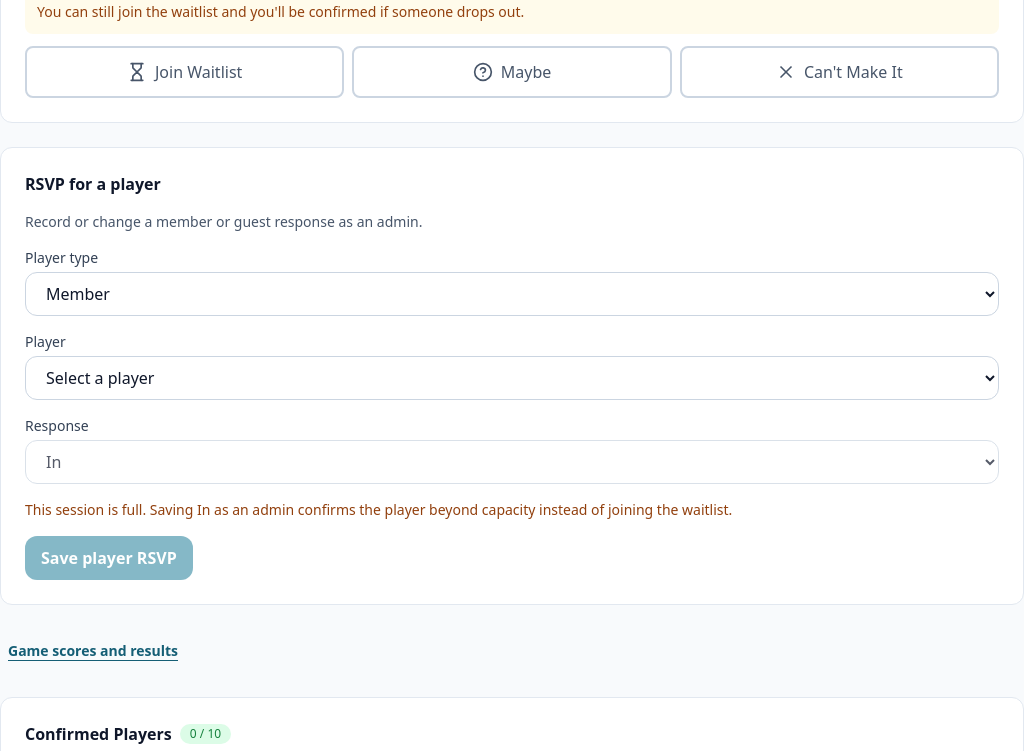
Test: admin player RSVPs › changes an existing response and explains the capacity override
(page scrolled)
Select "Ace" in the dropdown labelled "Player" at (512, 378), box [25,356,999,400]
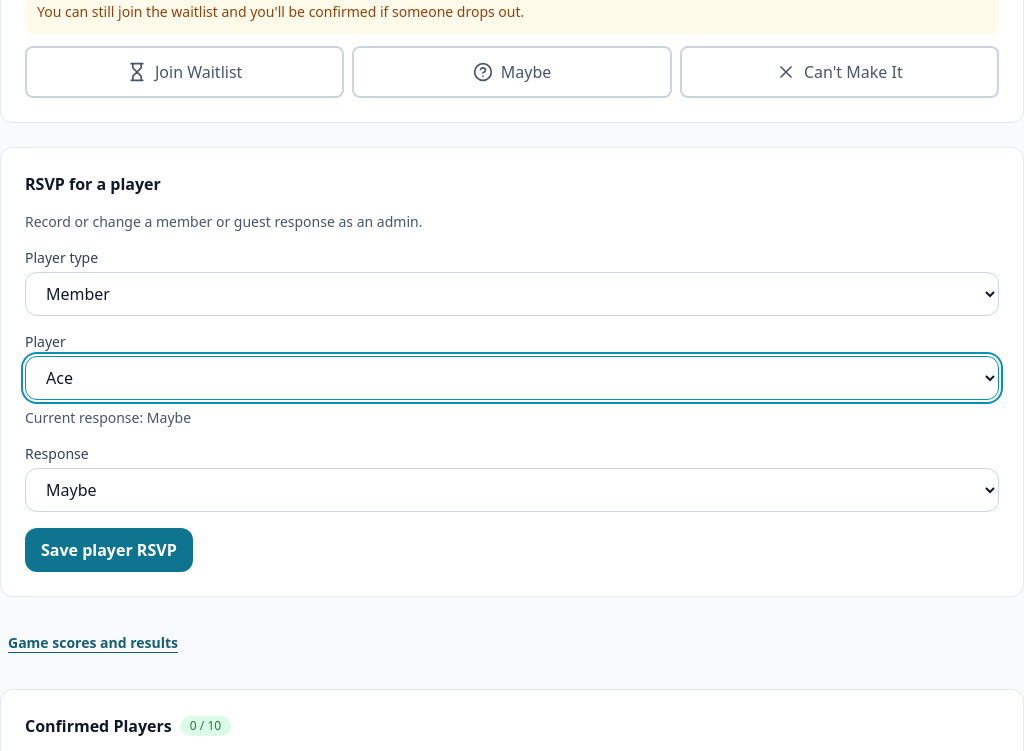
Result: the dropdown labelled "Response" shows "Maybe"
Select "In" in the dropdown labelled "Response" at (512, 490), box [25,468,999,512]
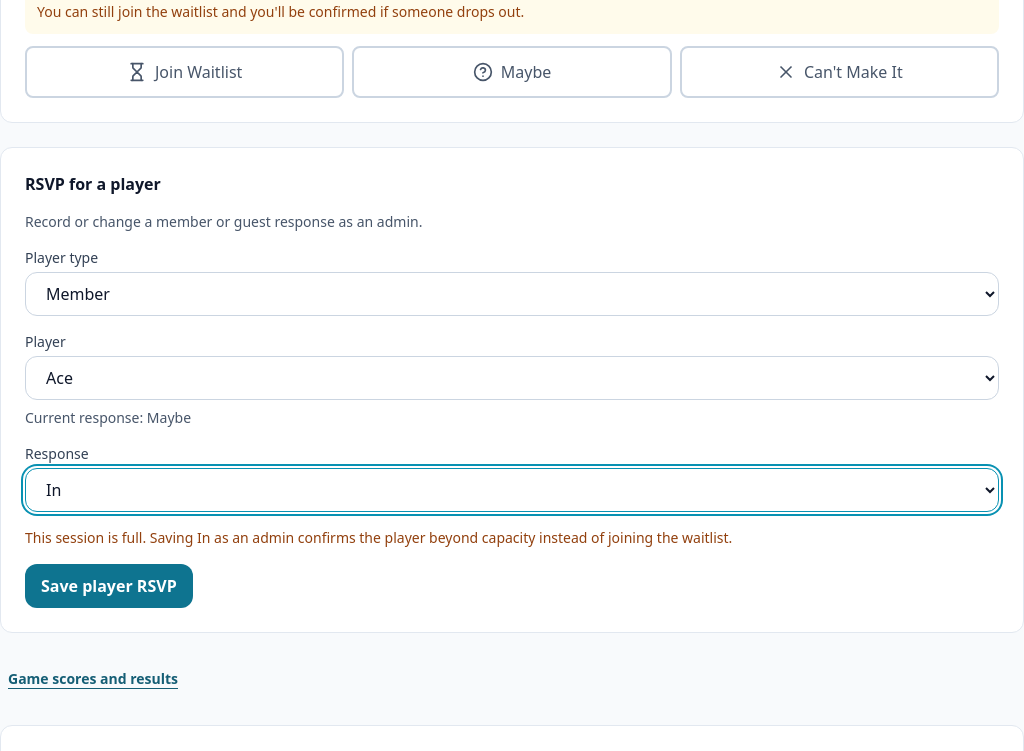
Result: the text "confirms the player beyond capacity" is shown at [25,528,732,547]
Select "Out" in the dropdown labelled "Response" at (512, 490), box [25,468,999,512]
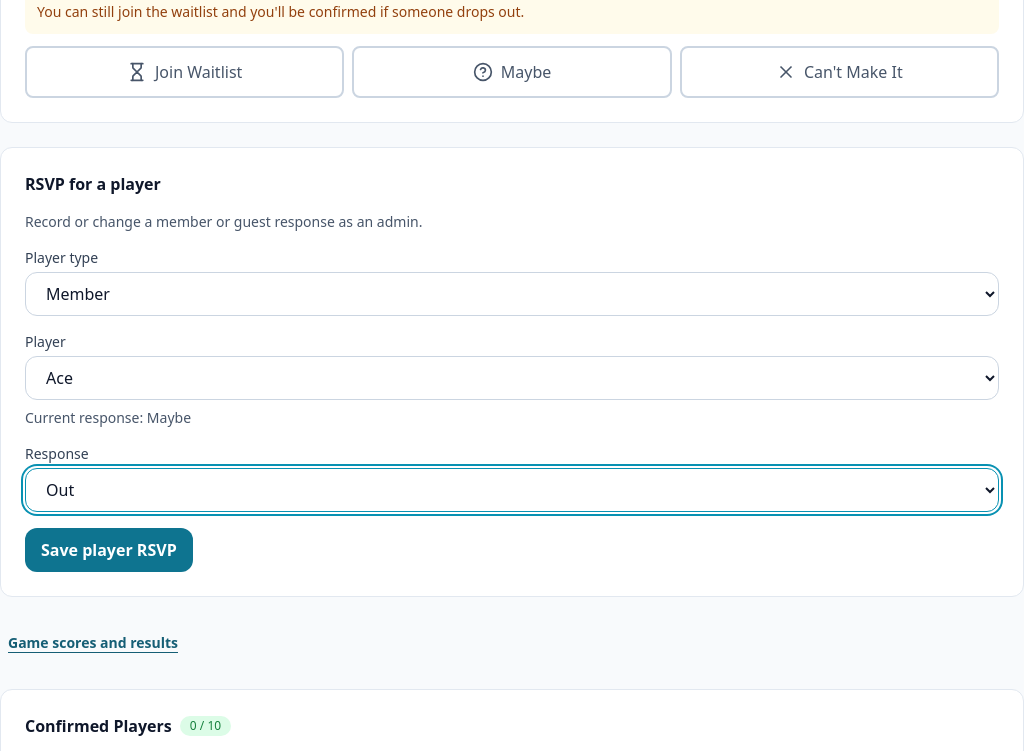
Click the button "Save player RSVP" at (109, 550), box [25,528,193,572]
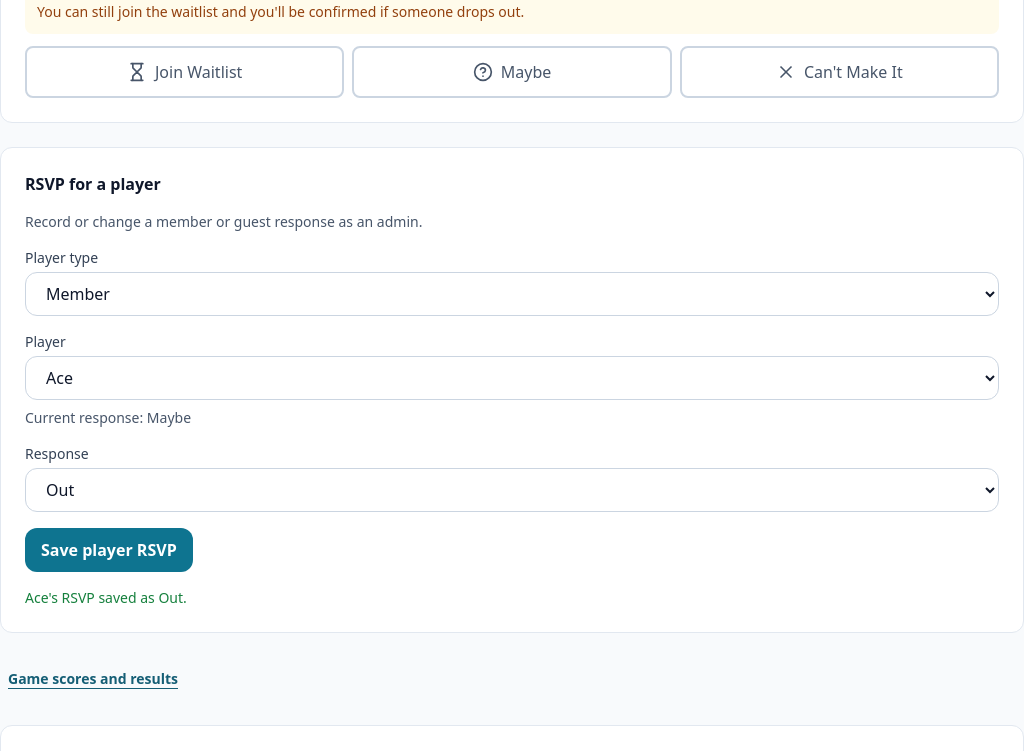
Result: the text "Ace's RSVP saved as Out." is shown at [25,588,187,607]
